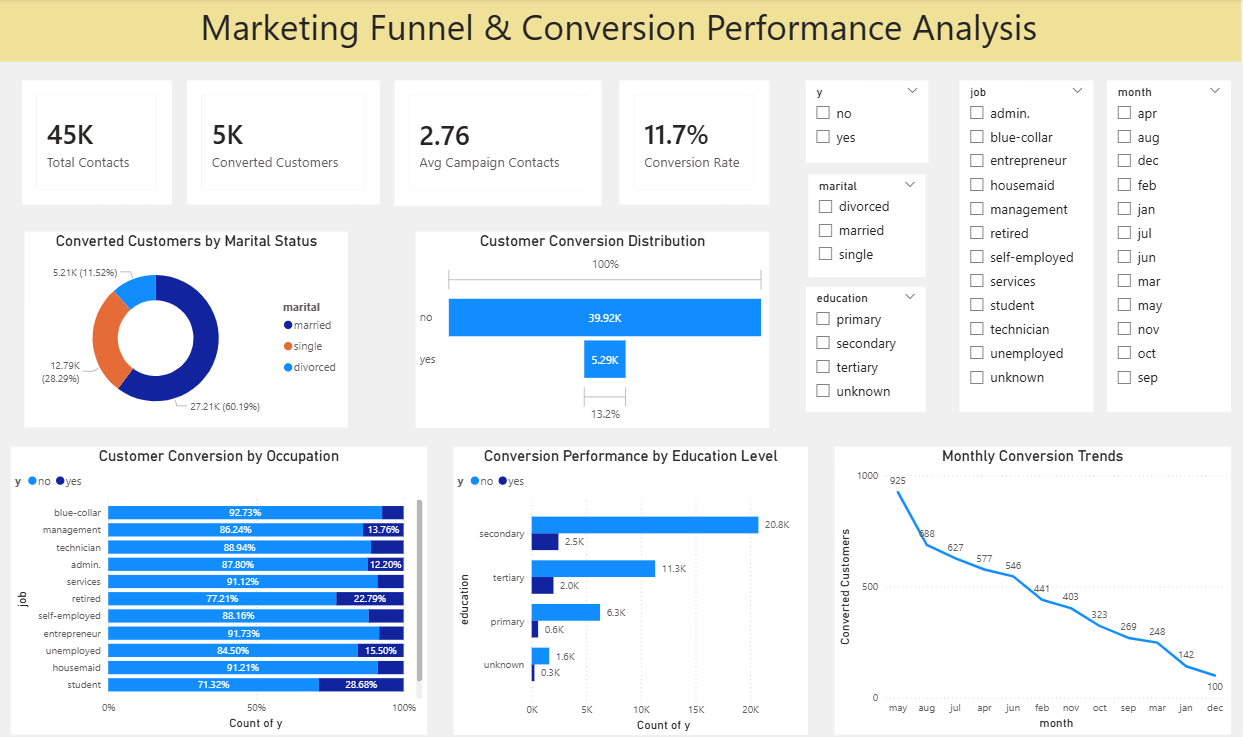

The page's visual inventory and layout, read from the dashboard file:
{"tool":"powerbi","page":{"name":"Page 1","canvas":[1500,900],"ordinal":0},"visuals":[{"type":"textbox","box":[0,0,1500.5,76.9],"z":0},{"type":"cardVisual","fields":{"Data":["bank-full.Total Contacts"]},"box":[30.2,98.9,181,149.6],"z":1000},{"type":"cardVisual","fields":{"Data":["bank-full.Converted Customers"]},"box":[229.2,98.9,232.8,149.6],"z":2000},{"type":"cardVisual","fields":{"Data":["bank-full.Conversion Rate"]},"box":[750.4,100.1,181,149.6],"z":3000},{"type":"cardVisual","fields":{"Data":["bank-full.Avg Campaign Contacts"]},"box":[479,98.9,249.7,150.8],"z":4000},{"type":"funnel","title":"Customer Conversion Distribution","fields":{"Y":["CountNonNull(bank-full.marital)"],"Category":["bank-full.y"]},"box":[505.2,282,426.8,236.8],"z":5000},{"type":"hundredPercentStackedBarChart","title":"Customer Conversion by Occupation","fields":{"Category":["bank-full.job"],"Series":["bank-full.y"],"Y":["CountNonNull(bank-full.y)"]},"box":[16.6,541.4,502.2,346.9],"z":6000},{"type":"donutChart","title":"Converted distribution by Marital Status","fields":{"Category":["bank-full.marital"],"Y":["CountNonNull(bank-full.y)"]},"box":[33.8,281.4,390.8,236.4],"z":7000},{"type":"slicer","fields":{"Values":["bank-full.y"]},"box":[975.7,99.5,147.8,99.5],"z":8000},{"type":"clusteredBarChart","title":"Conversion Performance by Education Level","fields":{"Category":["bank-full.education"],"Series":["bank-full.y"],"Y":["CountNonNull(bank-full.y)"]},"box":[550.4,541.4,428.3,348.4],"z":9000},{"type":"lineChart","title":"Monthly Conversion Trends","fields":{"Category":["bank-full.month"],"Y":["bank-full.Converted Customers"]},"box":[1010.4,541.4,478.1,346.9],"z":10000},{"type":"slicer","fields":{"Values":["bank-full.marital"]},"box":[978.7,212.6,141.8,123.7],"z":11000},{"type":"slicer","fields":{"Values":["bank-full.month"]},"box":[1339.1,99.5,149.3,399.6],"z":12000},{"type":"slicer","fields":{"Values":["bank-full.job"]},"box":[1161.2,99.5,161.4,399.6],"z":13000},{"type":"slicer","fields":{"Values":["bank-full.education"]},"box":[975.7,348.4,144.8,150.8],"z":14000}]}

Visuals, with their boxes in screenshot pixels (x1, y1, x2, y2), scaled from the page's 1500x900 canvas onto the 1243x737 screenshot:
textbox: bbox=[0, 0, 1242, 63]
cardVisual - bank-full.Total Contacts: bbox=[25, 81, 175, 203]
cardVisual - bank-full.Converted Customers: bbox=[190, 81, 383, 203]
cardVisual - bank-full.Conversion Rate: bbox=[622, 82, 772, 204]
cardVisual - bank-full.Avg Campaign Contacts: bbox=[397, 81, 604, 204]
"Customer Conversion Distribution" funnel: bbox=[419, 231, 772, 425]
"Customer Conversion by Occupation" hundredPercentStackedBarChart: bbox=[14, 443, 430, 727]
"Converted distribution by Marital Status" donutChart: bbox=[28, 230, 352, 424]
slicer - bank-full.y: bbox=[809, 81, 931, 163]
"Conversion Performance by Education Level" clusteredBarChart: bbox=[456, 443, 811, 729]
"Monthly Conversion Trends" lineChart: bbox=[837, 443, 1233, 727]
slicer - bank-full.marital: bbox=[811, 174, 929, 275]
slicer - bank-full.month: bbox=[1110, 81, 1233, 409]
slicer - bank-full.job: bbox=[962, 81, 1096, 409]
slicer - bank-full.education: bbox=[809, 285, 929, 409]
